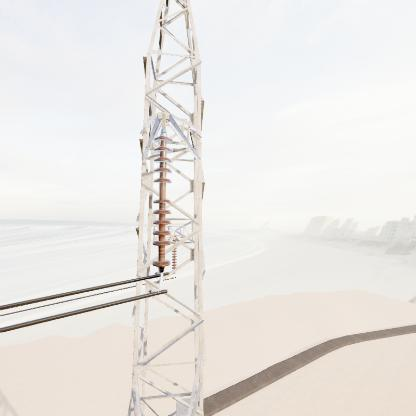insulator: (149, 132, 171, 273)
